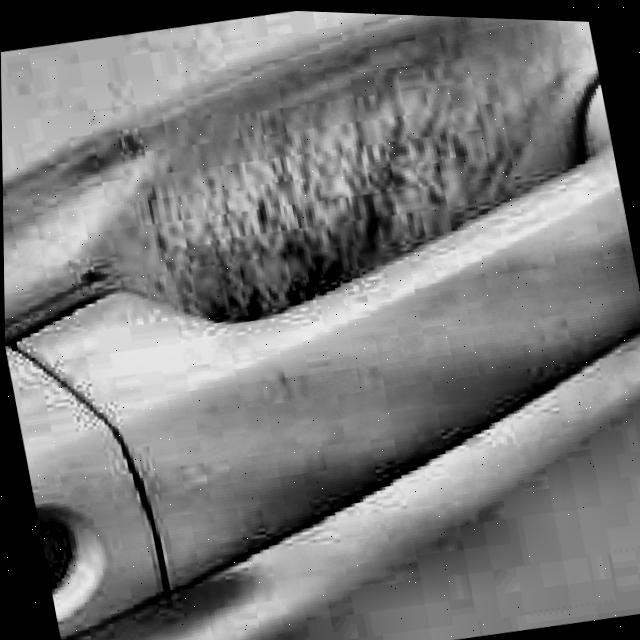door_scratch: (130, 112, 481, 349)
